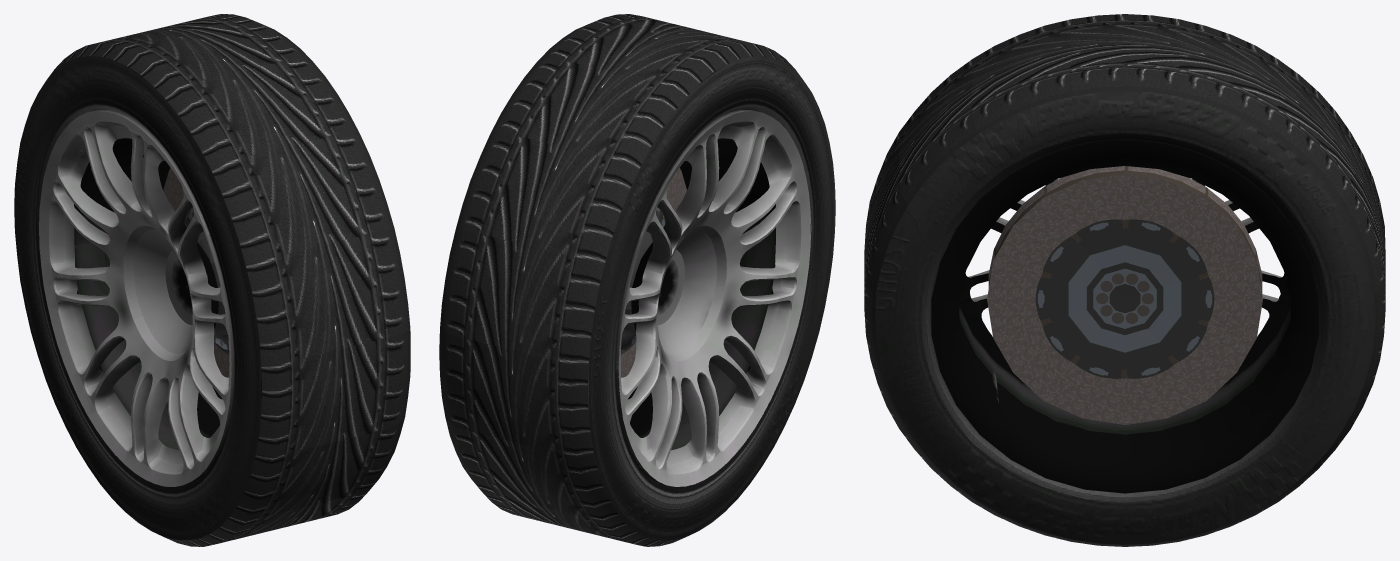
Rendered from bmw_wheel.fbx.
The picture shows the model from 3 angles, left to right: view 1: azimuth 30°, elevation 25°; view 2: azimuth 150°, elevation 25°; view 3: azimuth 270°, elevation 25°; orthographic projection.
Visible parts, largest first — view 1: WHEEL_RF_SUB2_rim_0; view 2: WHEEL_RF_SUB2_rim_0; view 3: WHEEL_RF_SUB2_rim_0.
Boxes of the visible parts, x1,y1,x2,y2 form: WHEEL_RF_SUB2_rim_0: (14, 14, 410, 546); WHEEL_RF_SUB2_rim_0: (439, 14, 835, 546); WHEEL_RF_SUB2_rim_0: (864, 14, 1385, 546).
Size of the model in its own units: 22.56 by 66.08 by 66.01.
